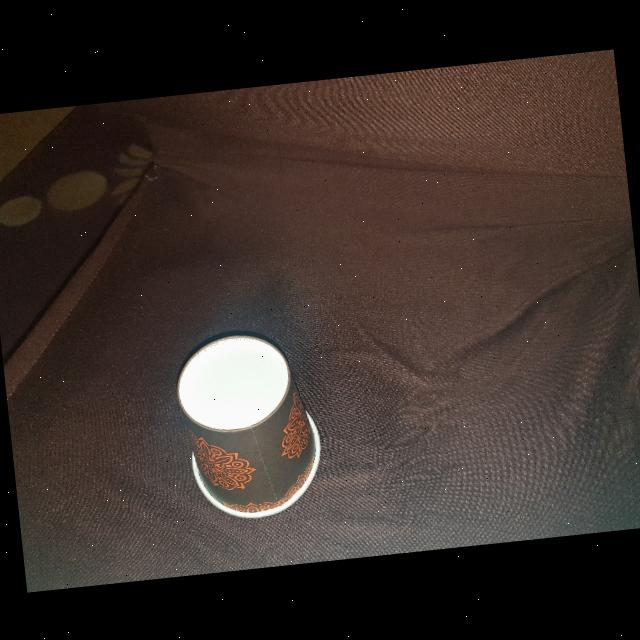trash: (167, 322, 328, 526)
